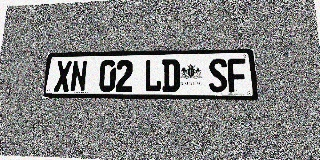0: (98, 60, 116, 92)
2: (115, 60, 133, 92)
D: (162, 59, 179, 92)
F: (227, 58, 247, 92)
L: (144, 59, 162, 92)
N: (70, 61, 88, 92)
S: (208, 58, 228, 92)
X: (54, 61, 72, 92)
